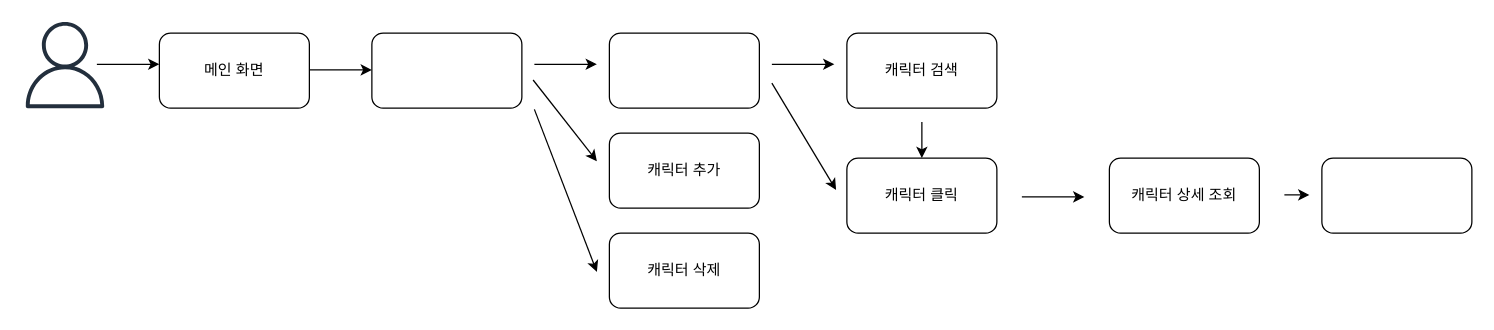
This 1494x330 diagram has some shape labels left out. Each missing label, with the box of its shape:
전체 캐릭터 조회: (608, 32, 759, 108)
캐릭터 수정: (1321, 157, 1472, 233)
캐릭터 페이지: (371, 32, 522, 108)
